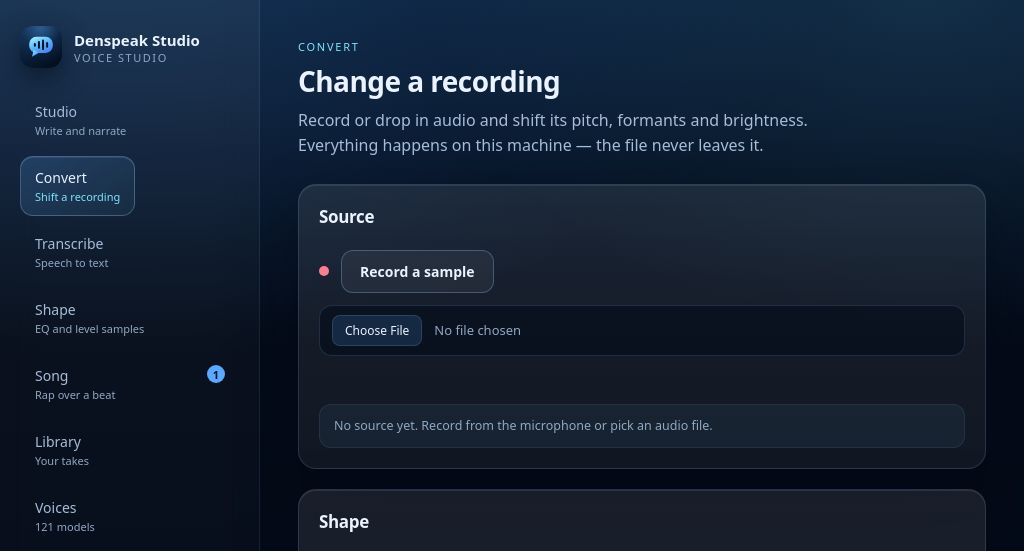
Test: hand-off navigation › opens what is waiting for a section from its rail count, without taking it
What coordinates should you click on to do the following:
click the button named "1 take waiting for Song"
I would click on:
 (216, 374)
Its box is [207,365,225,383].
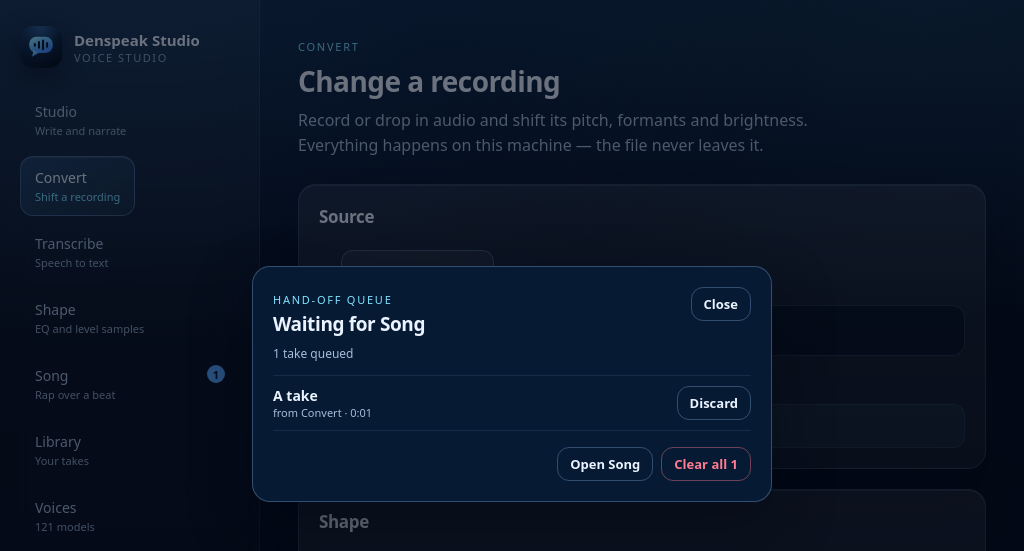
Expected: the dialog "Waiting for Song" shows "A take", [273,386,318,405]
Expected: the dialog "Waiting for Song" shows "from Convert", [273,405,342,420]
What coordinates should you click on to do the following:
click the button "Open Song"
I would click on:
 (605, 464)
Its box is [557,447,653,481].
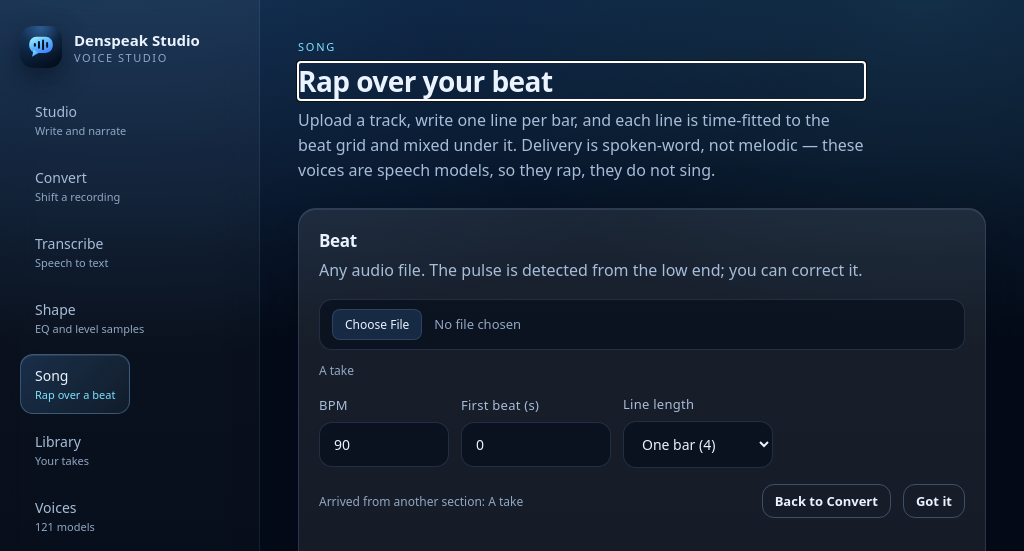
Expected: the button "take waiting for Song" is not shown
Expected: the heading "Rap over your beat" is shown, [298,62,553,100]
